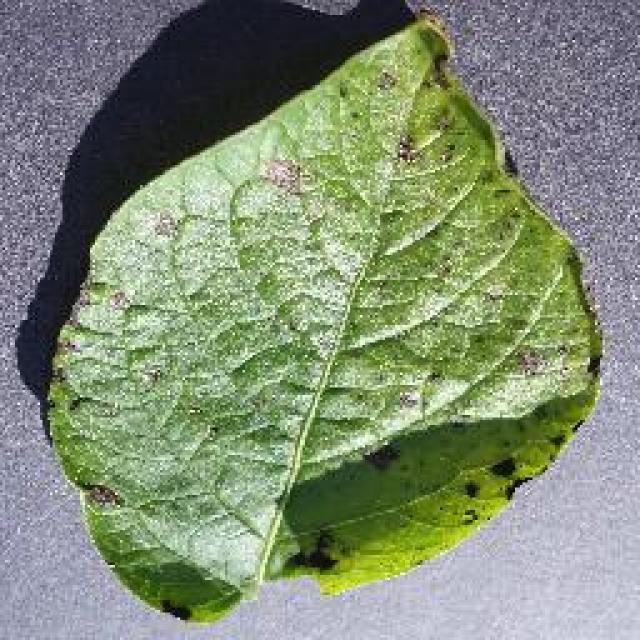early_blight: (40, 5, 608, 627)
